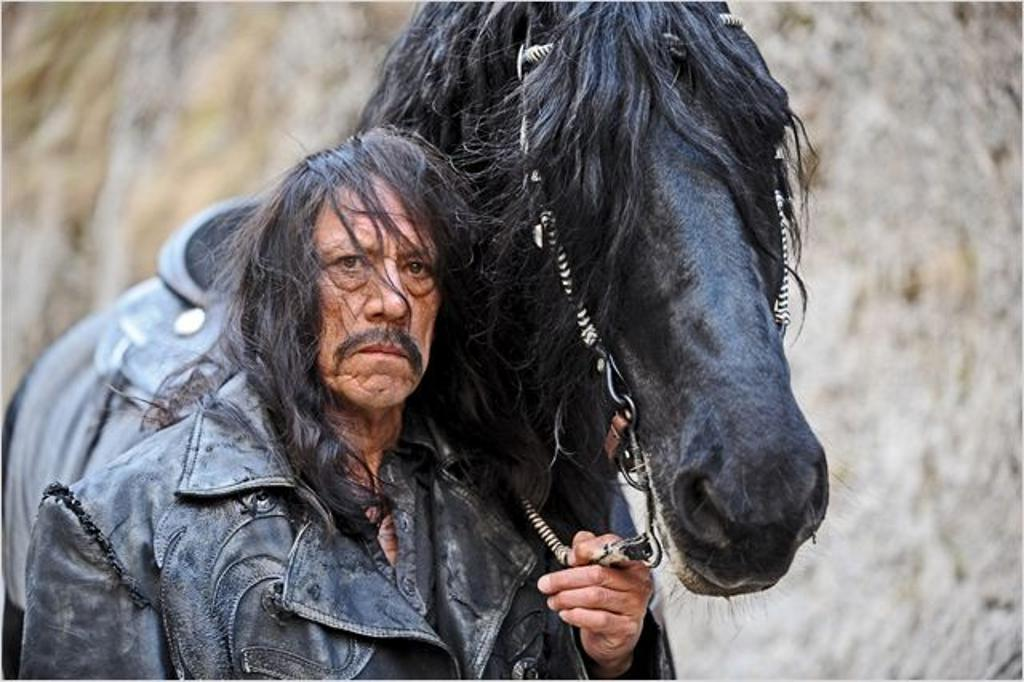face: (308, 166, 440, 406)
